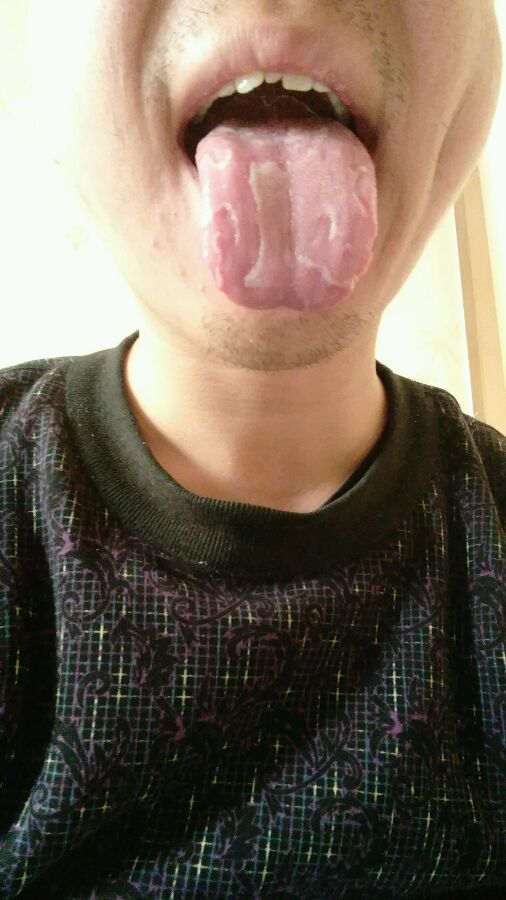baitaishe: (196, 116, 378, 312)
botaishe: (208, 202, 266, 293), (199, 127, 285, 185), (347, 162, 378, 224)
